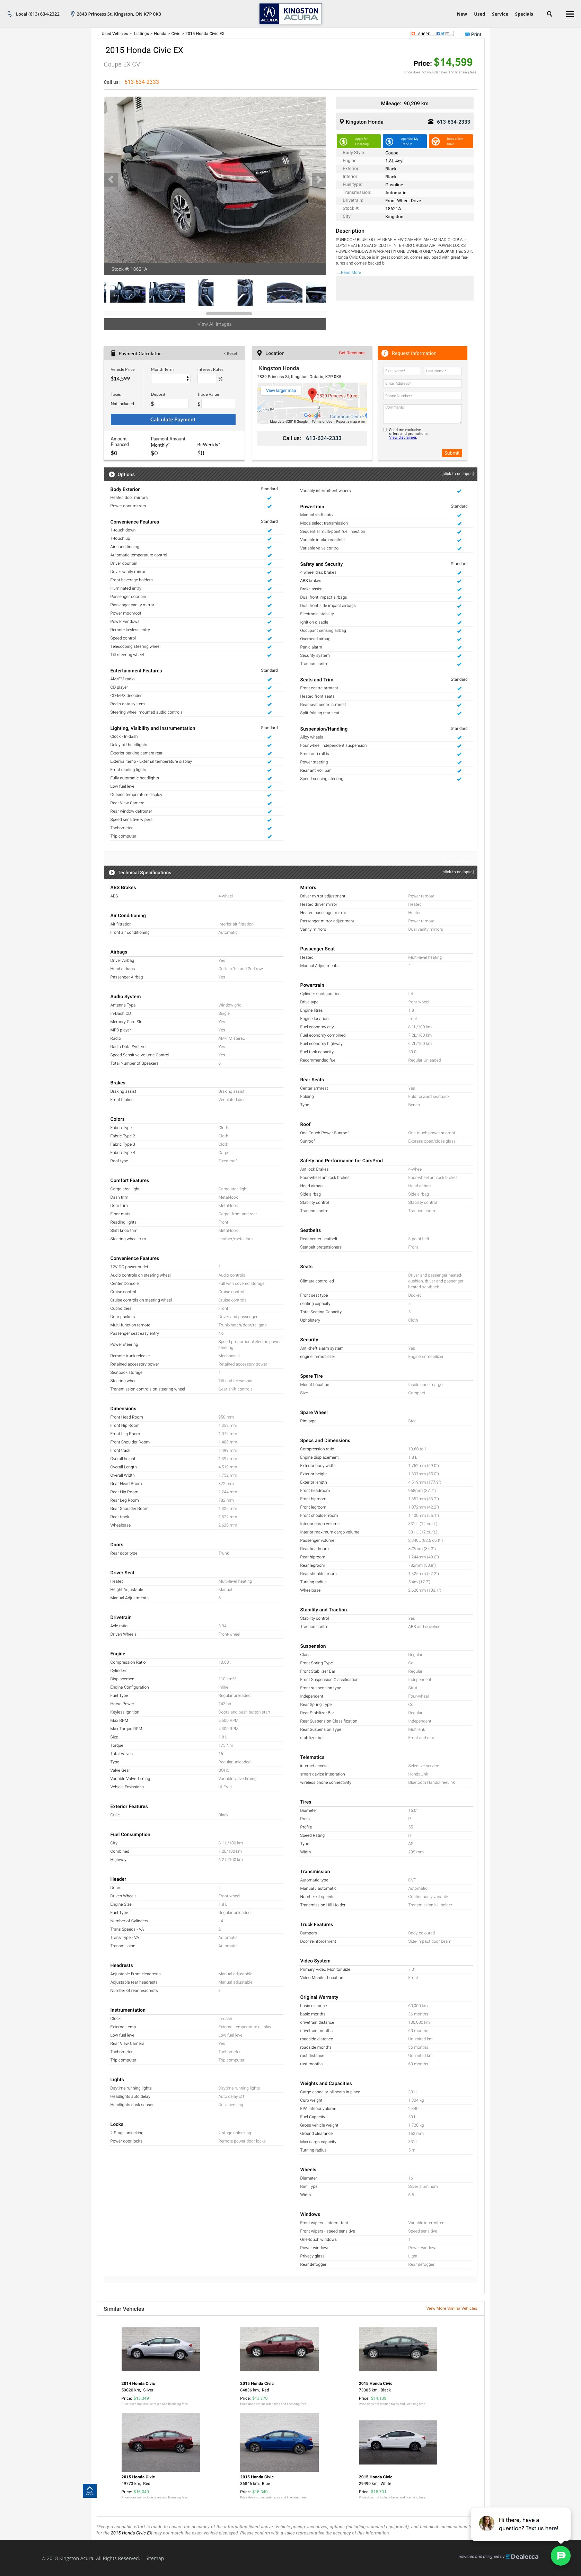car: (316, 176, 323, 184)
